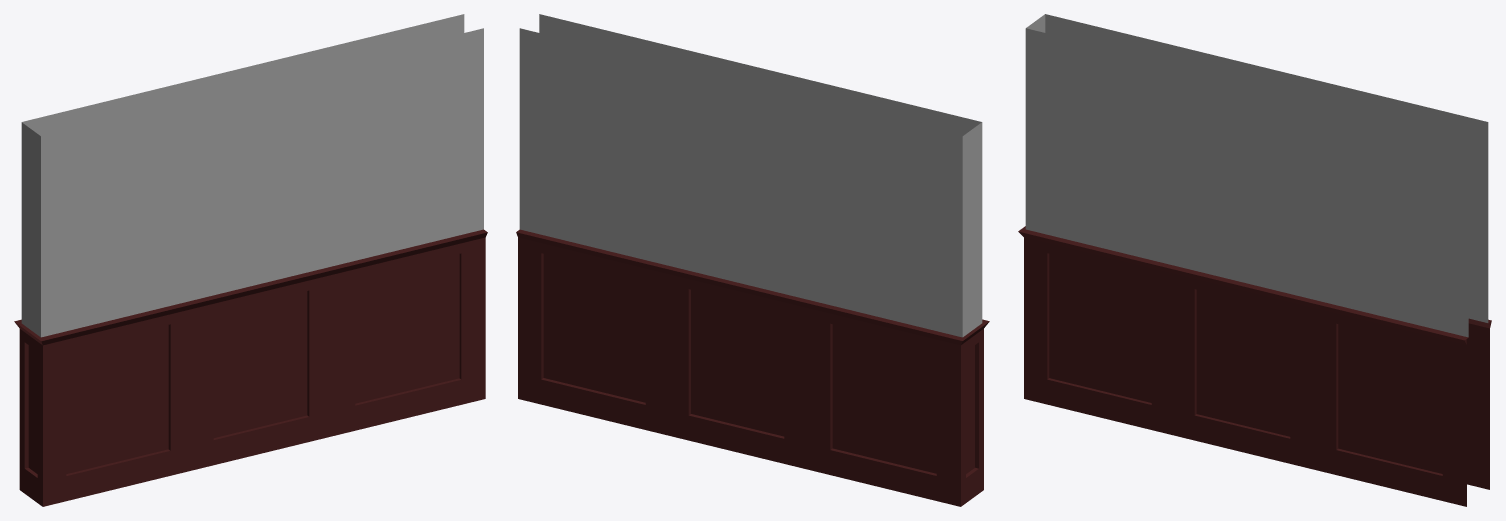
File: 2SideEdgeWall.fbx
3 views of the same model, side by side, from view 1: azimuth 30°, elevation 25°; view 2: azimuth 150°, elevation 25°; view 3: azimuth 330°, elevation 25° (orthographic).
Visible parts, largest first — view 1: polySurface56; view 2: polySurface56; view 3: polySurface56.
Part boxes in pixels (box(x1,y1,x2,y2)): polySurface56: box(14, 14, 487, 506); polySurface56: box(516, 14, 989, 506); polySurface56: box(1018, 14, 1491, 506).
Bounding box in the file's own units: 4.03 × 3.19 × 0.4256.
